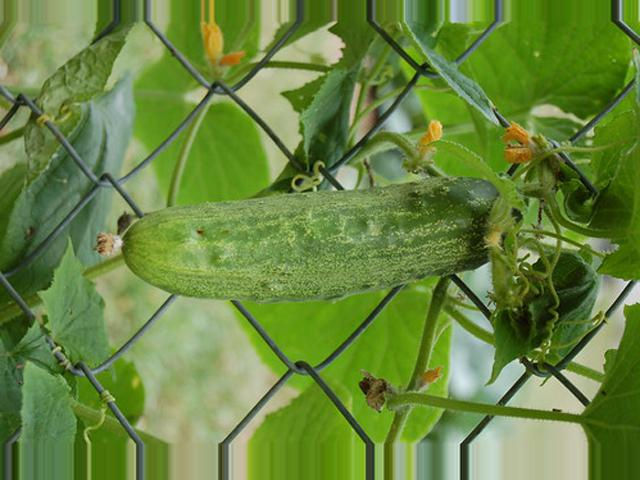cucumber: (97, 180, 518, 299)
